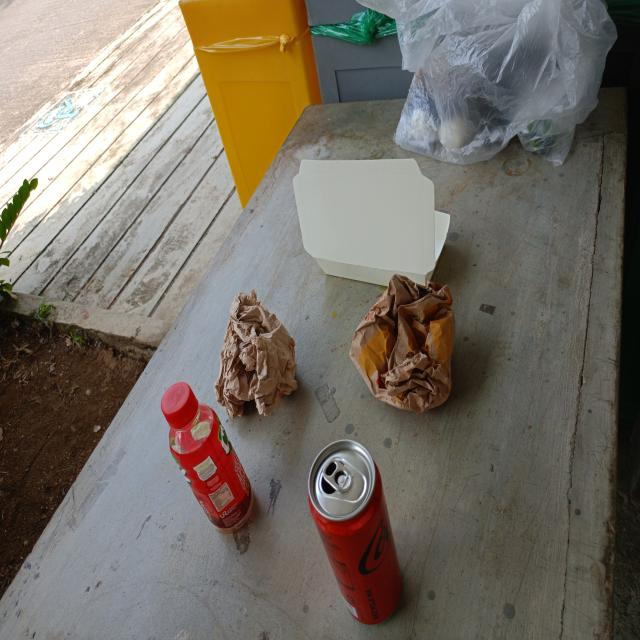Anorganik: (305, 435, 406, 628), (158, 376, 257, 539)
Organik: (292, 156, 451, 292), (346, 268, 455, 416), (213, 284, 302, 421)
